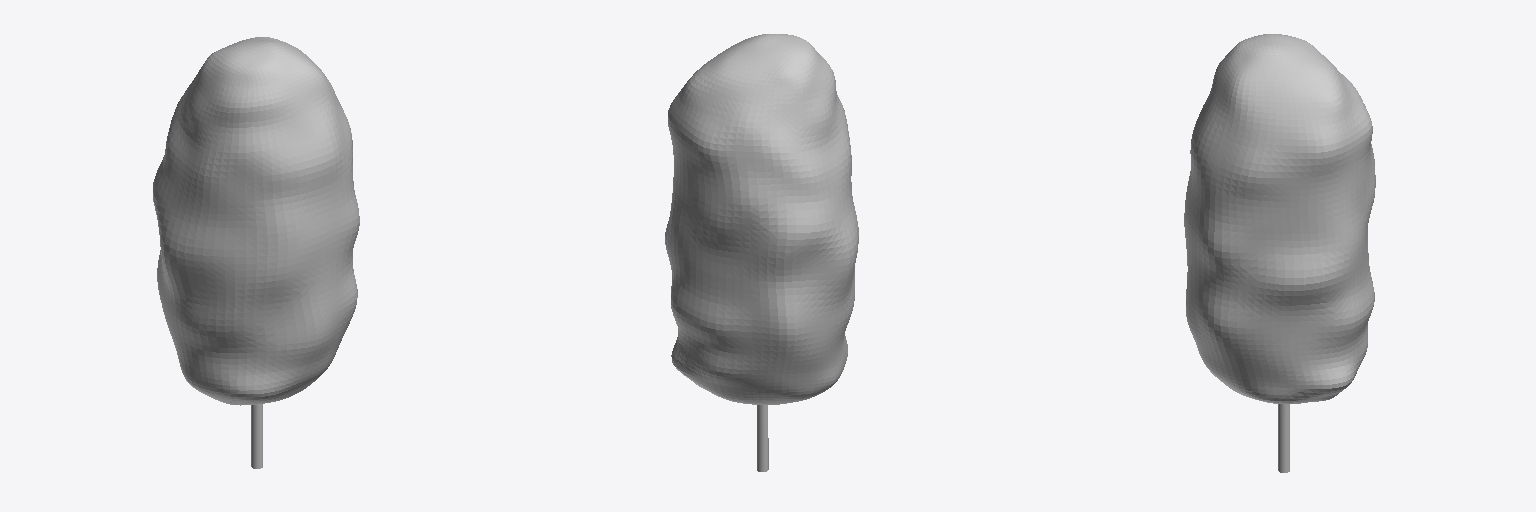
File: Arbol1.obj
3 renders of one model, left to right at view 1: azimuth 30°, elevation 25°; view 2: azimuth 150°, elevation 25°; view 3: azimuth 270°, elevation 25°, orthographic.
Parts seen in each view (by area): view 1: _White_Ash_Tree_v1_L3:_White_Ash_Tree_v1_SG; view 2: _White_Ash_Tree_v1_L3:_White_Ash_Tree_v1_SG; view 3: _White_Ash_Tree_v1_L3:_White_Ash_Tree_v1_SG.
Boxes of the visible parts, x1,y1,x2,y2 form: _White_Ash_Tree_v1_L3:_White_Ash_Tree_v1_SG: [153, 37, 359, 468]; _White_Ash_Tree_v1_L3:_White_Ash_Tree_v1_SG: [665, 34, 858, 471]; _White_Ash_Tree_v1_L3:_White_Ash_Tree_v1_SG: [1184, 34, 1375, 472].
Size of the model in its own units: 8.7 by 20.44 by 8.32.